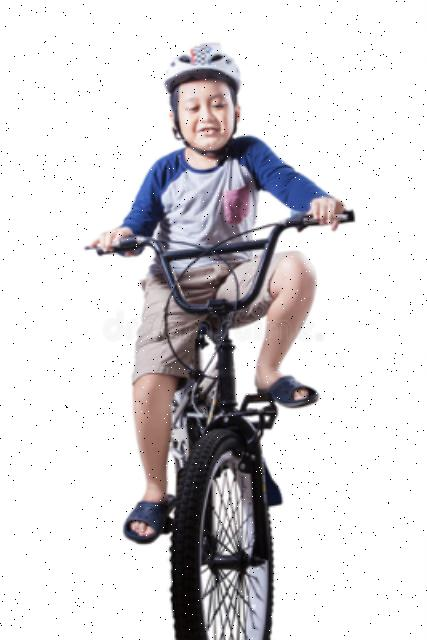With Helmet: (150, 42, 256, 158)
